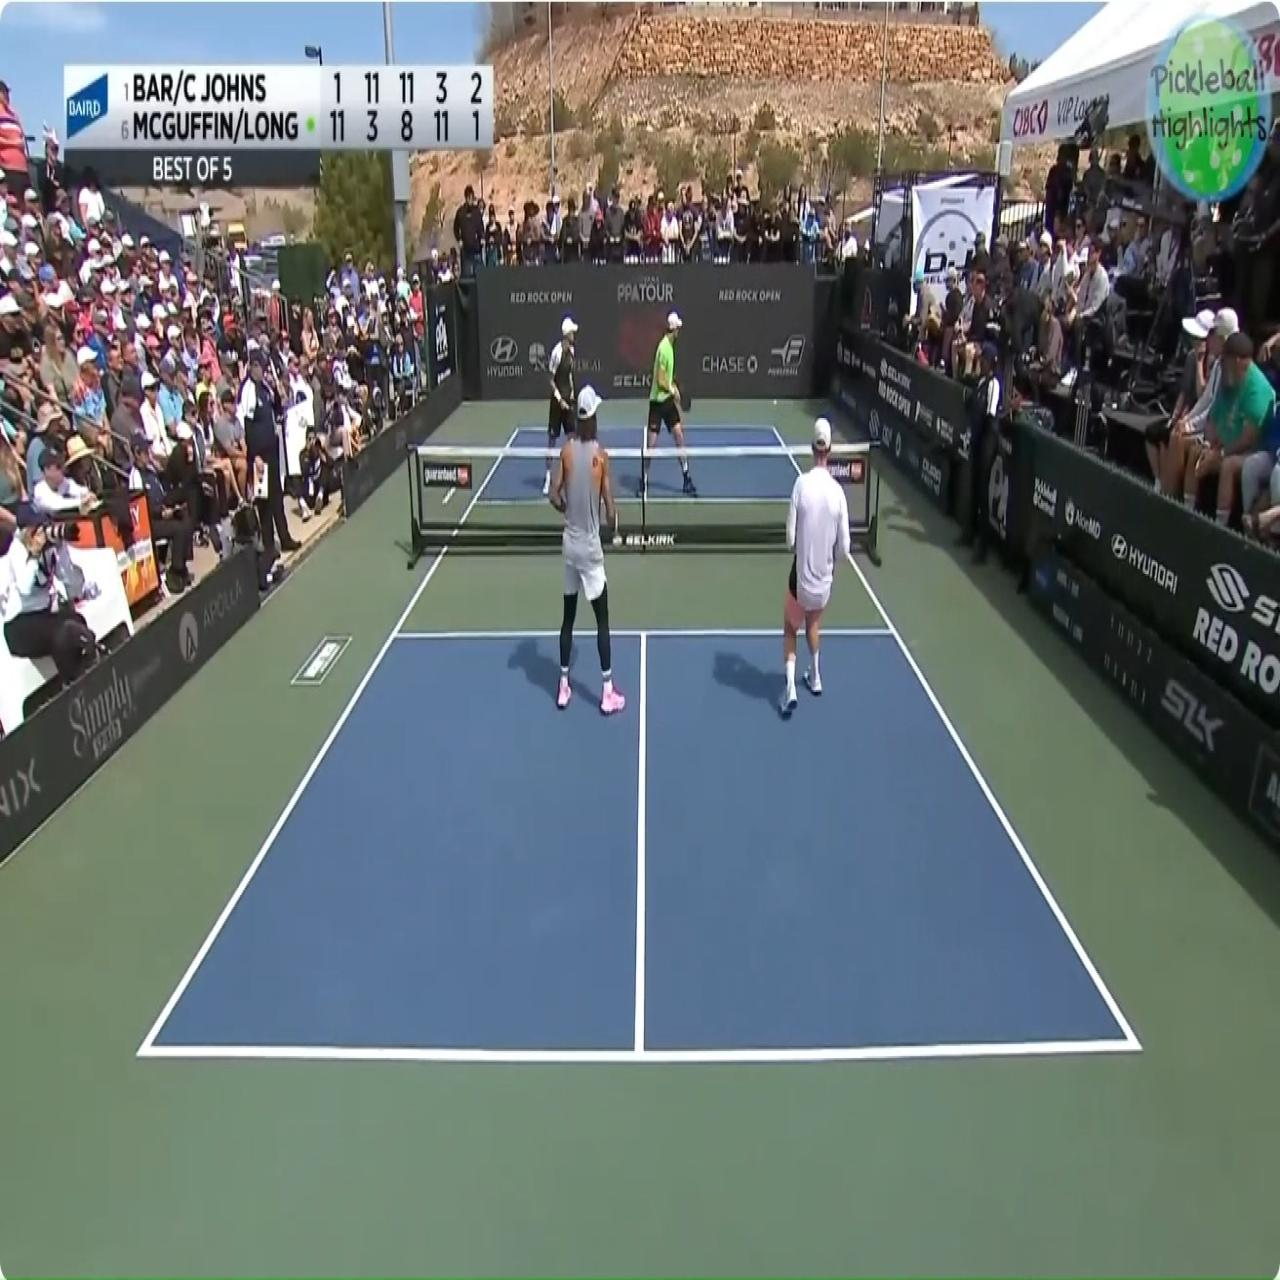pickleball: (774, 400, 777, 406)
